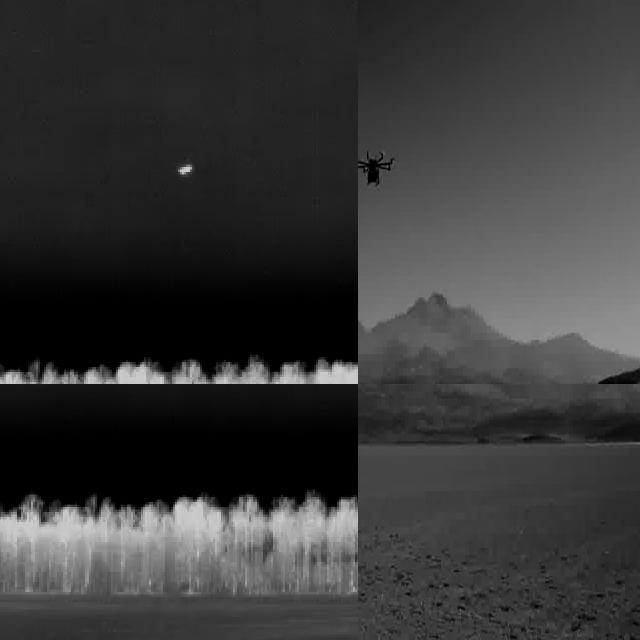1: (170, 157, 206, 187)
drone: (358, 142, 393, 194)
